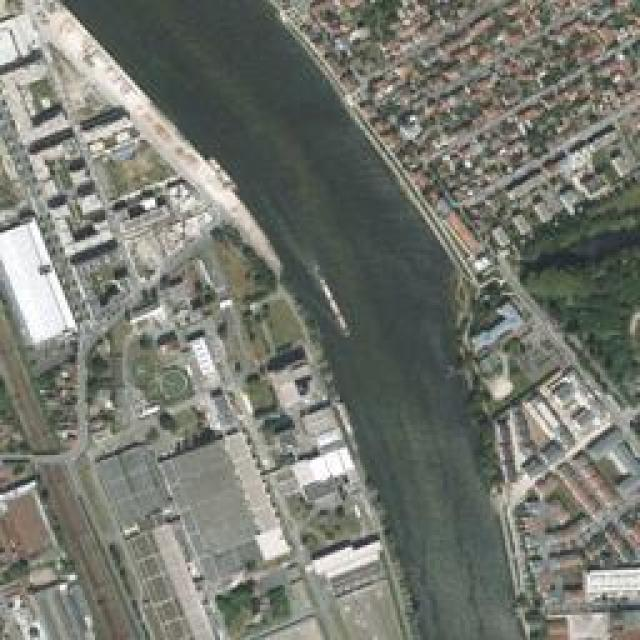River: (191, 4, 481, 640)
